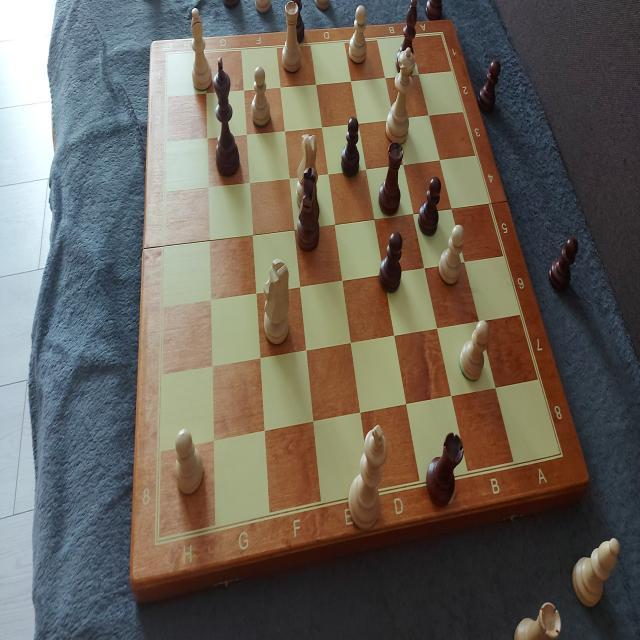chess-table-corners: (148, 520, 170, 558), (551, 435, 572, 468), (431, 22, 448, 48), (160, 45, 174, 69)
